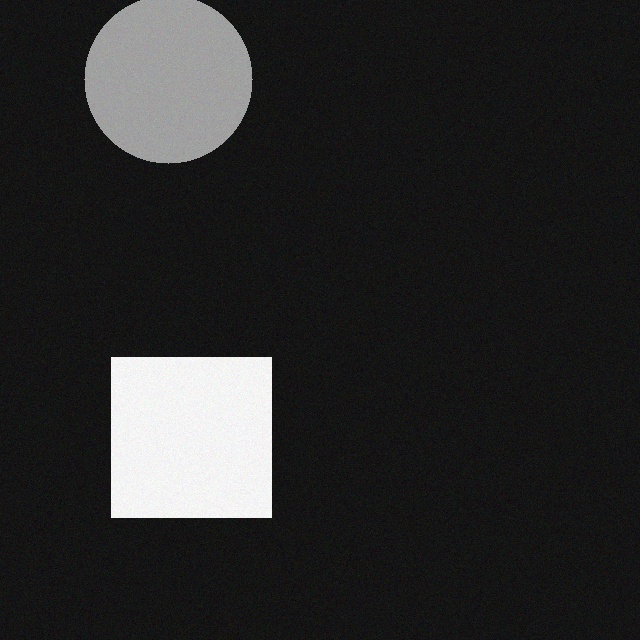circle: (86, 2, 254, 170)
square: (113, 364, 273, 524)
